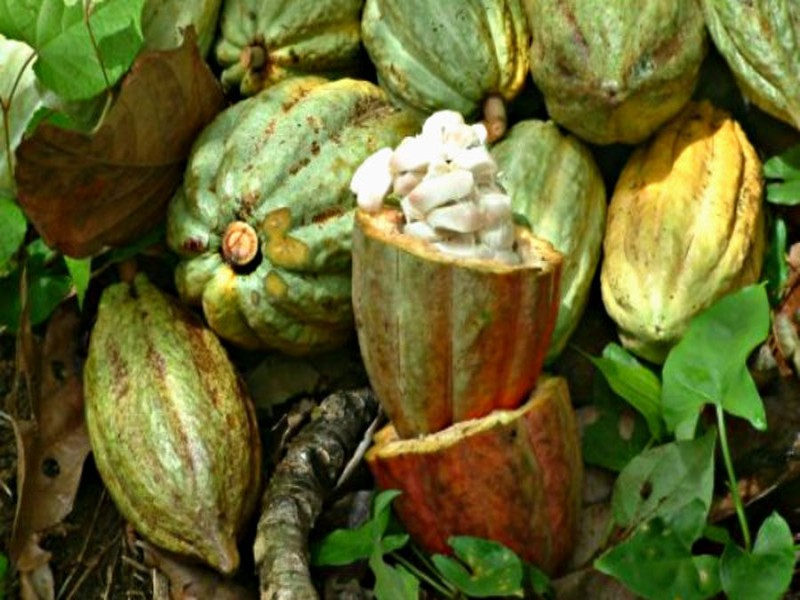Cacaopod: (73, 281, 275, 570)
